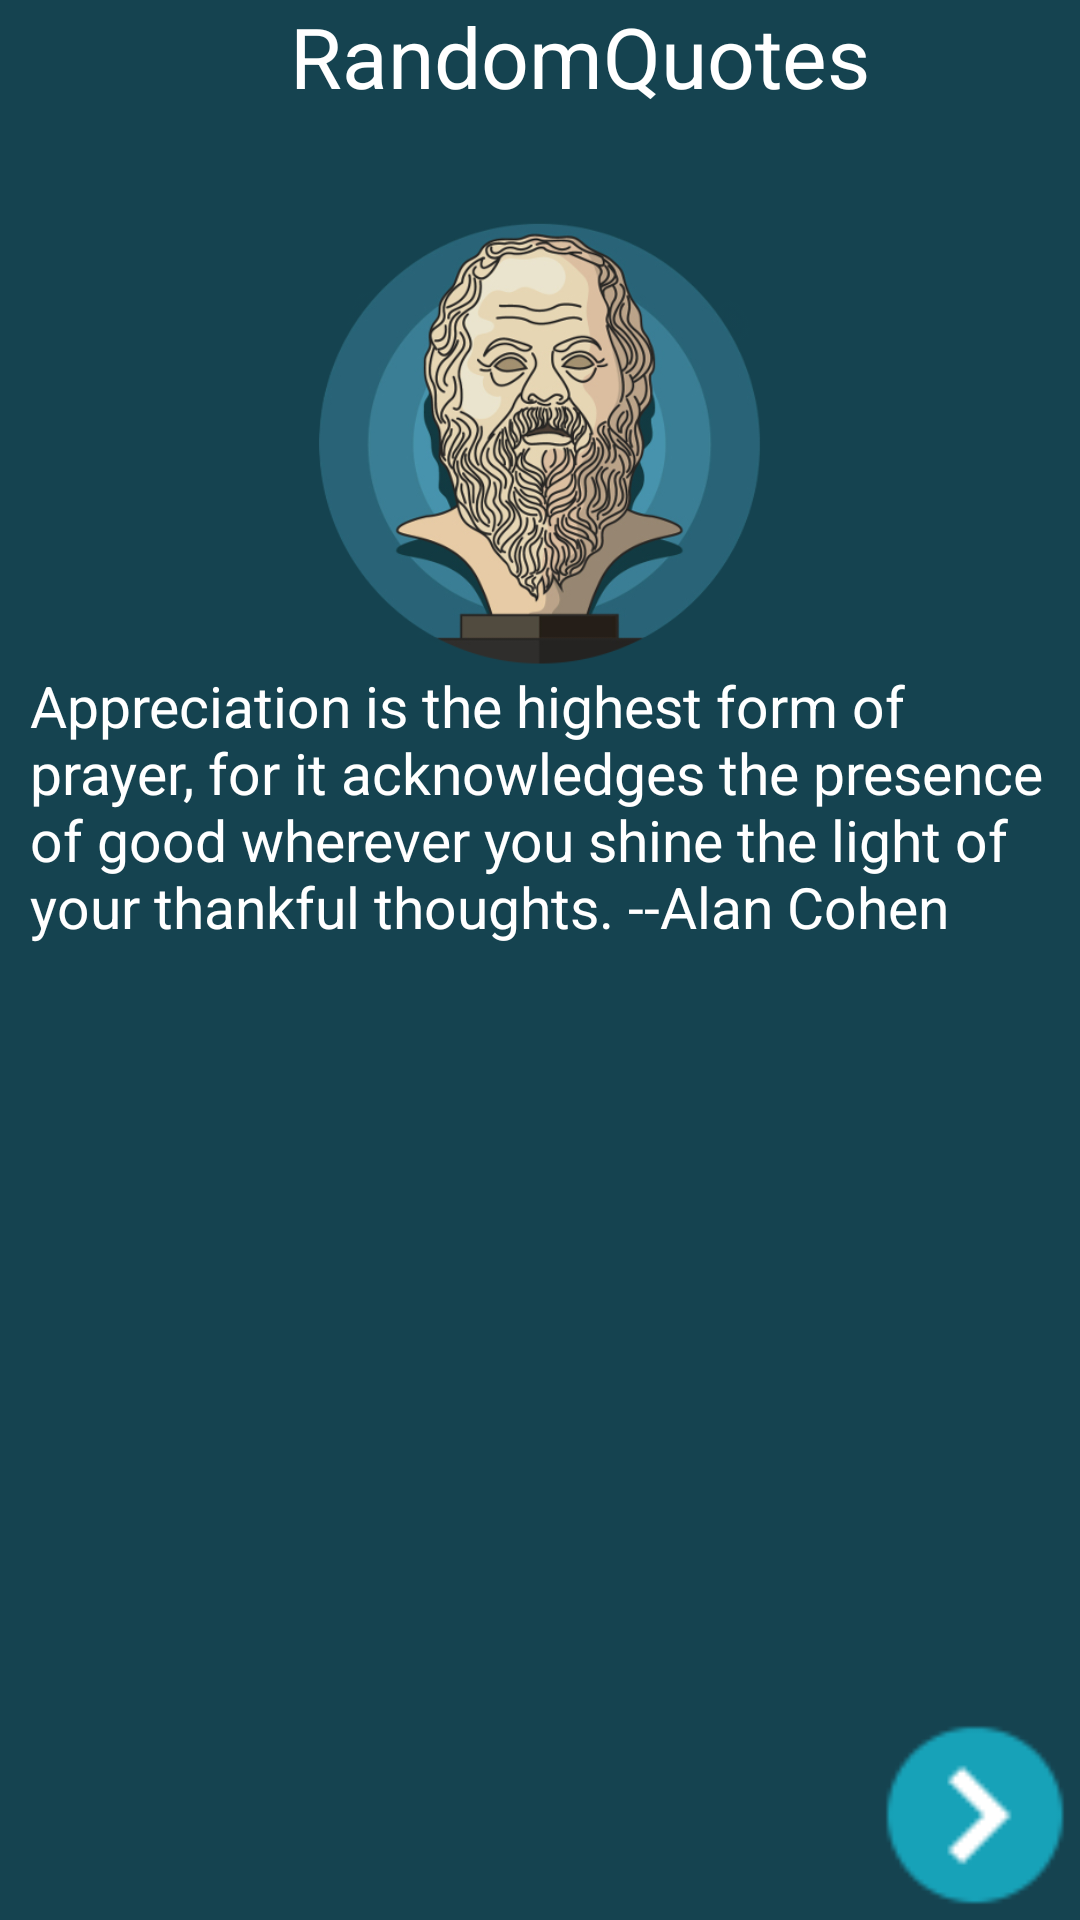

Point at icon controls on the screen. Image size 1080px×1920px, points as (x,y).
next: (975,1815)
